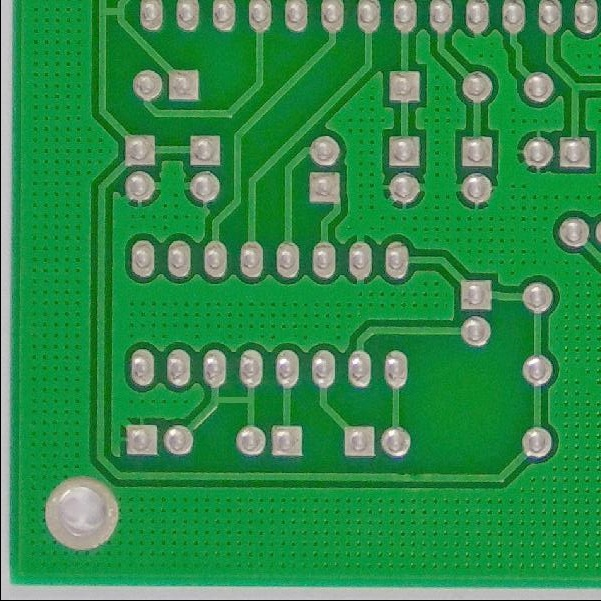short: (197, 380, 267, 432), (91, 1, 133, 35)
